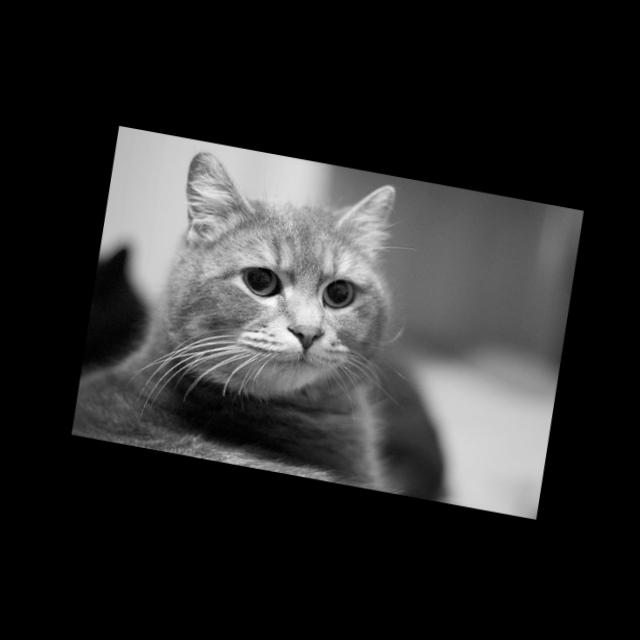animals: (172, 152, 391, 357)
